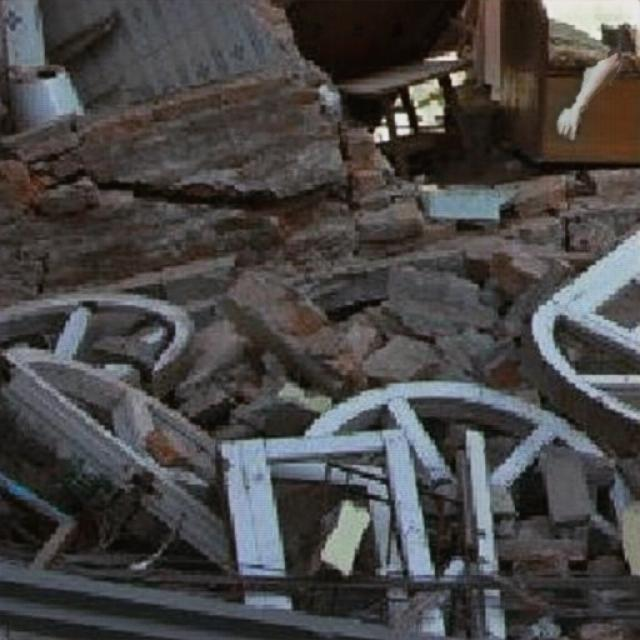Person in Rubble: (558, 44, 620, 140)
